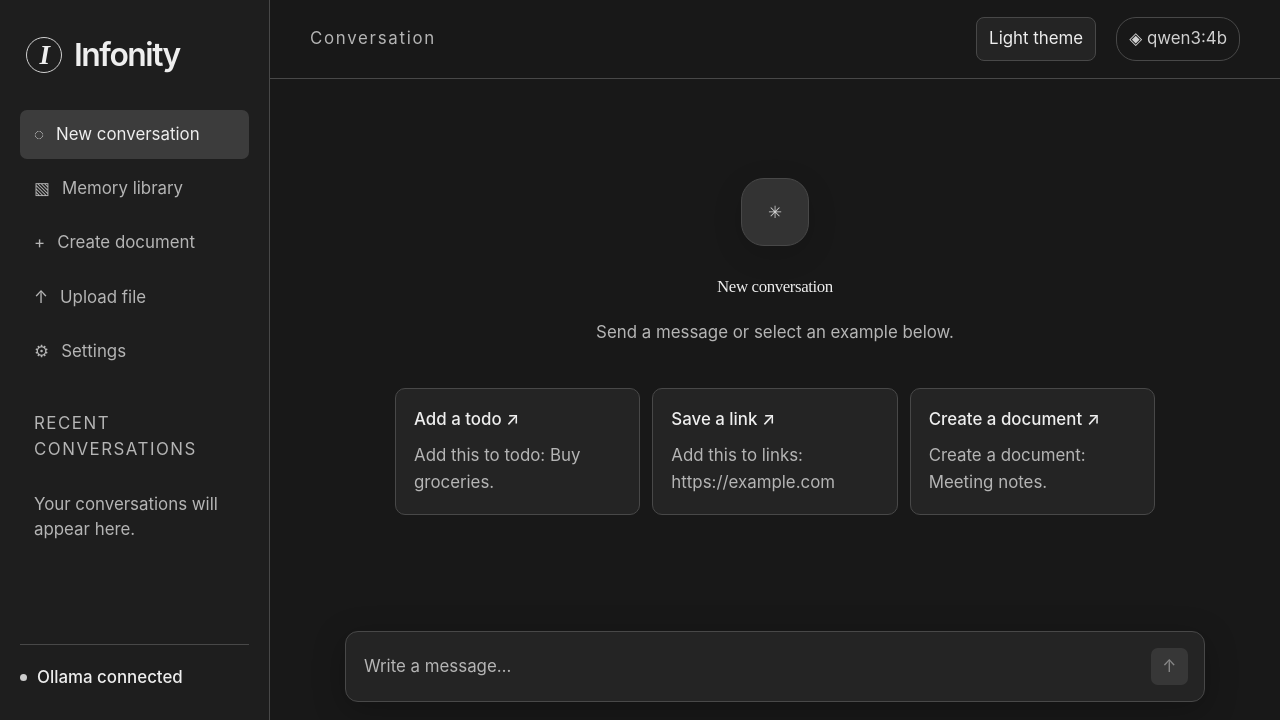
Test: local AI workflows › cancels an active request using Escape
Expected: the text "Ollama connected" is shown, [37,665,183,690]
Type "Tell me a story" into the field labelled "message" at (750, 666), box [362,650,1138,683]
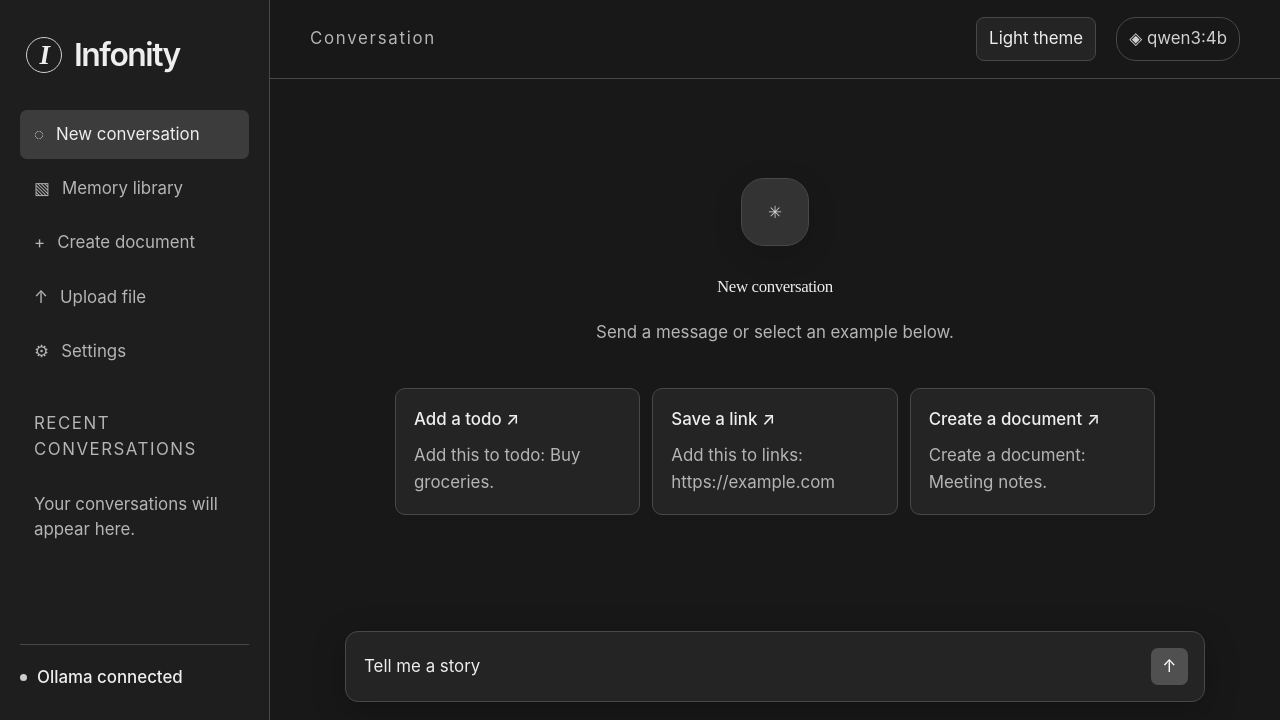
Click the button named "Send message" at (1169, 666), box [1150,648,1188,685]
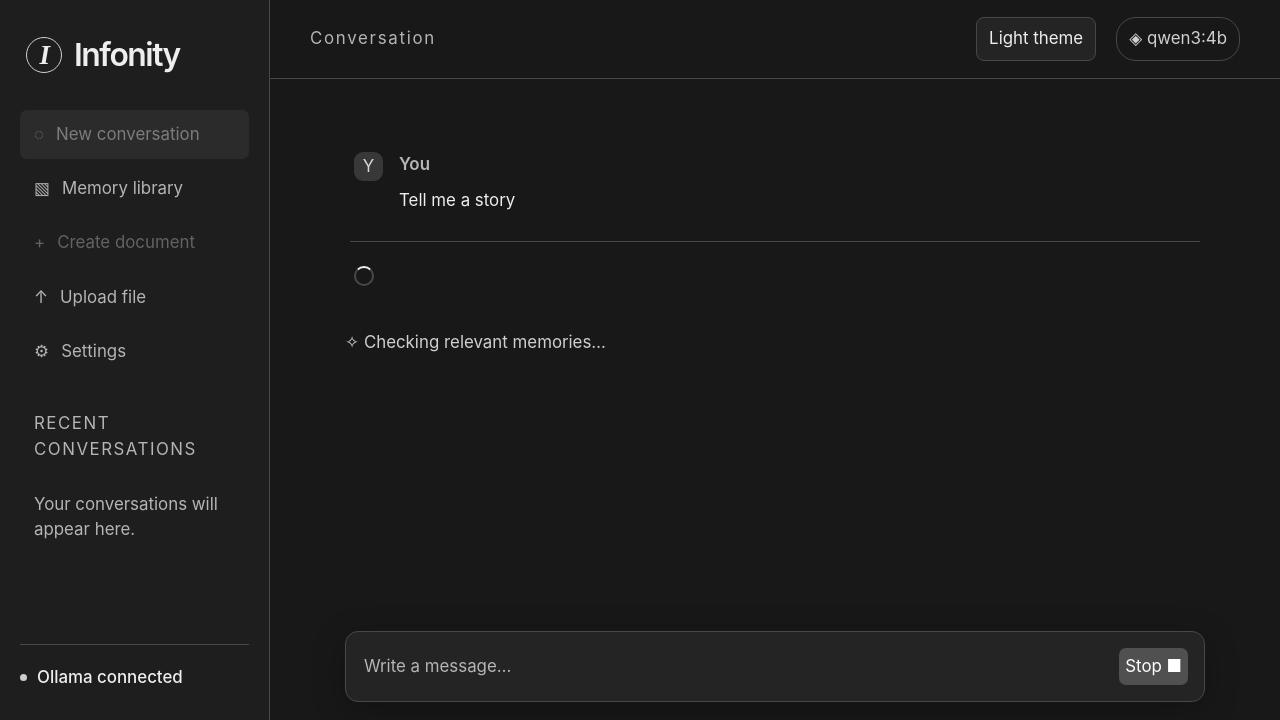
Press Escape in the field labelled "message", box [362,650,1107,683]
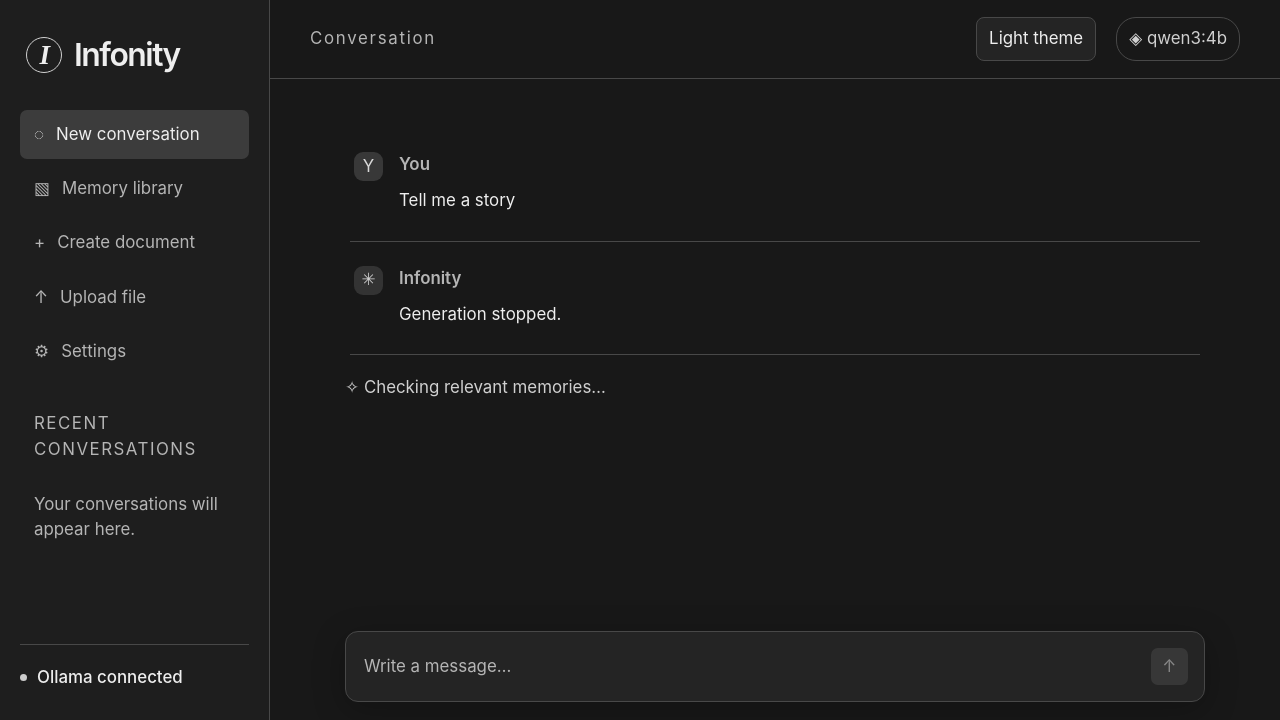
Now the button named "Send message" is shown, box [1150,648,1188,685]
